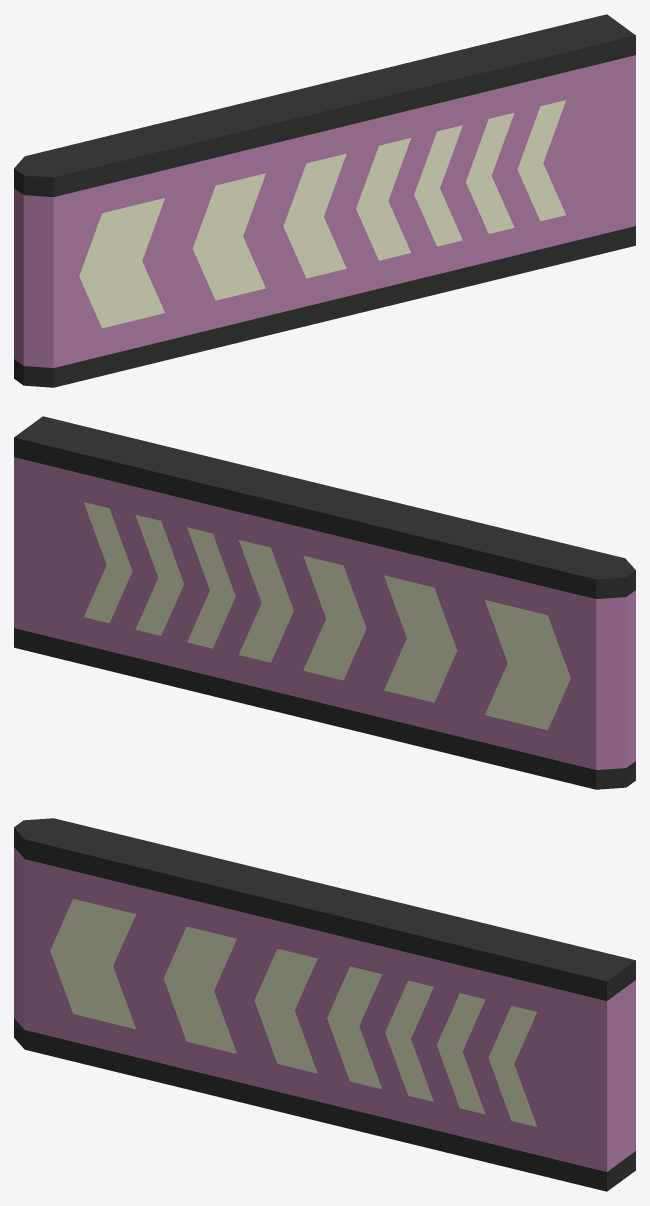
The model's file is RotatorBlock.fbx.
3 views of the same model, one above another, from view 1: azimuth 30°, elevation 25°; view 2: azimuth 150°, elevation 25°; view 3: azimuth 330°, elevation 25° (orthographic).
Parts seen in each view (by area): view 1: Plane; view 2: Plane; view 3: Plane.
Boxes of the visible parts, bbox=[...] form: Plane: bbox=[14, 14, 635, 387]; Plane: bbox=[14, 416, 635, 789]; Plane: bbox=[14, 818, 635, 1191].
Bounding box in the file's own units: 600 × 200 × 50.
